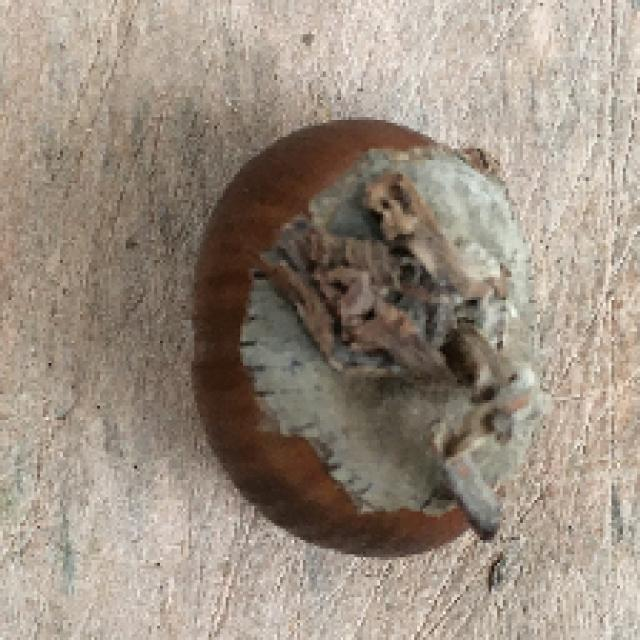damagedHazelnut: (179, 113, 531, 564)
